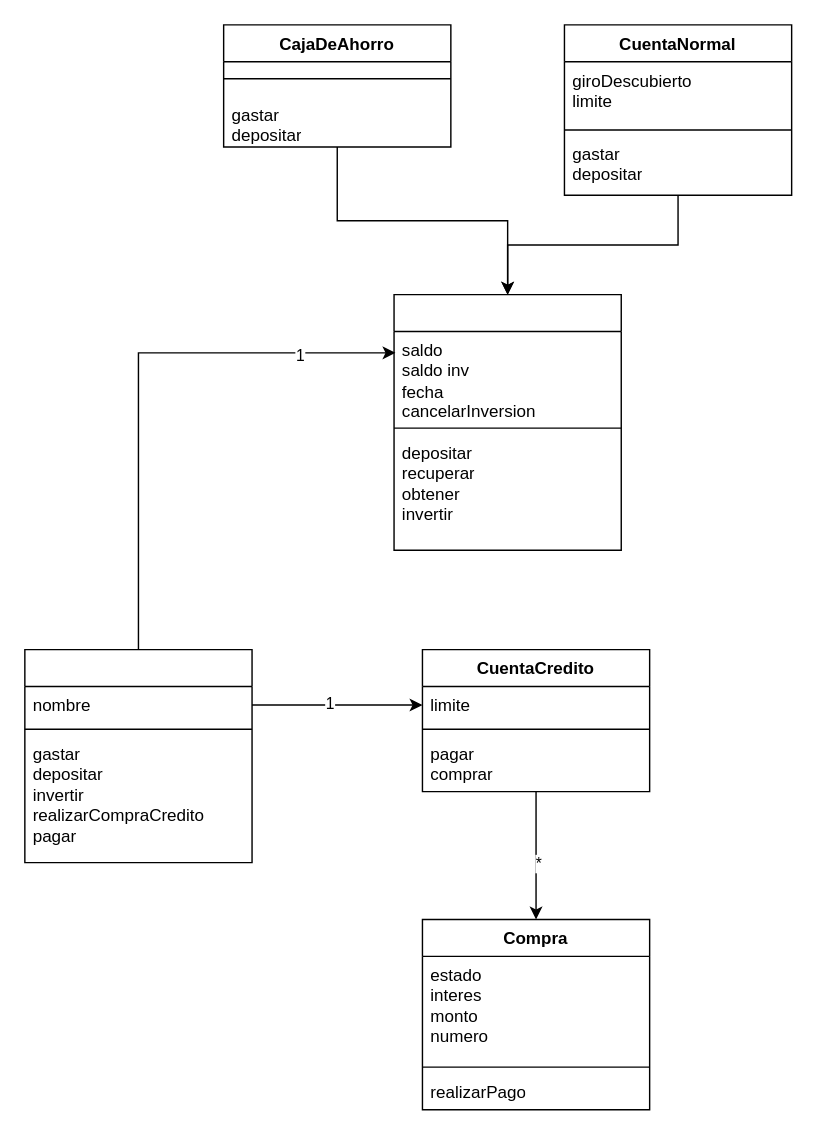
The diagram is 817 pixels wide and 1139 high, and some of its shapes have lost their labels. Here are the shapes that lost their labels. From the top down, the box of each, then its label:
(393, 293, 621, 550): Cuenta
(23, 648, 252, 863): Usuario
